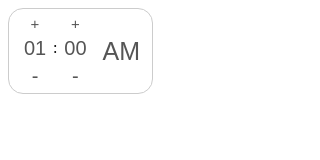
Test case: TimeInput – direct input › accepts a typed hour
Replace the text in the 1st field with placeholder "--" with "9" at [35, 48], box [17,36,53,61]
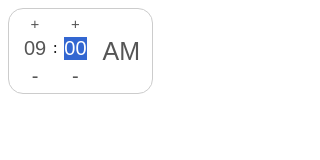
Now the 1st field with placeholder "--" holds "09", box [17,36,53,61]
